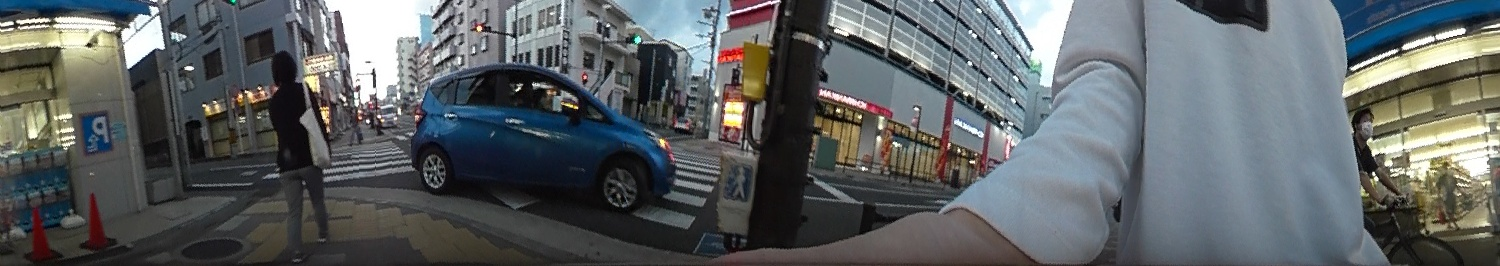difficult_person: (346, 103, 364, 142)
person: (256, 46, 339, 266), (1348, 104, 1412, 229)
